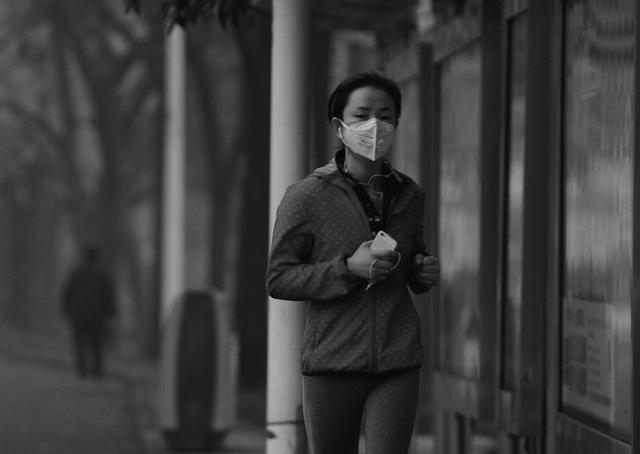face_mask: (338, 90, 398, 157)
